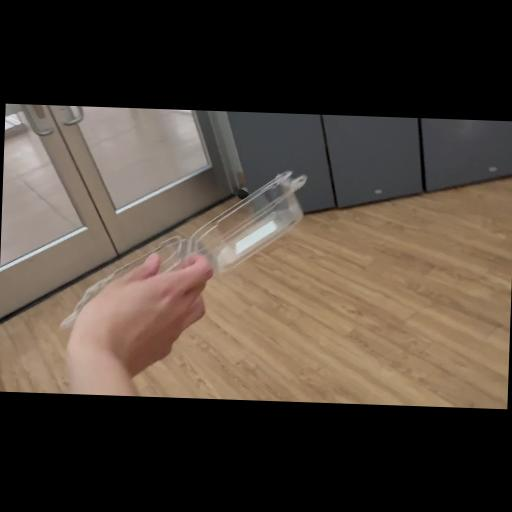small_plastic_container: (50, 144, 320, 349)
